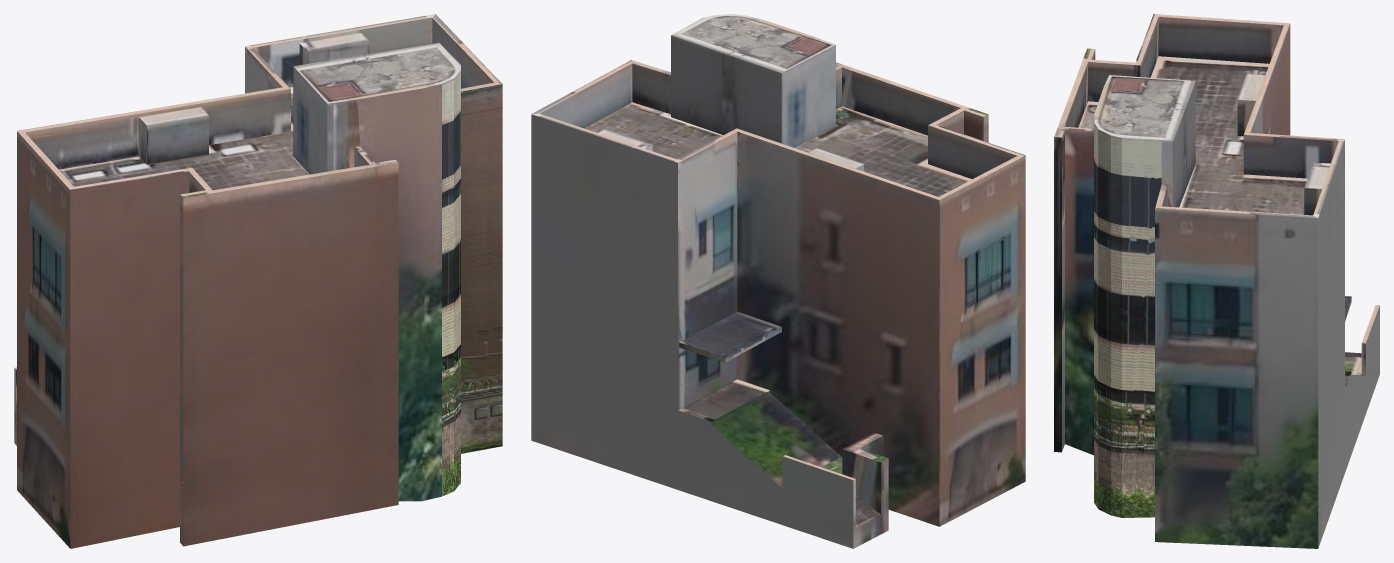
3 views of the same model, side by side, from view 1: azimuth 30°, elevation 25°; view 2: azimuth 150°, elevation 25°; view 3: azimuth 270°, elevation 25° (orthographic). The views are drawn at different scales.
Visible parts, largest first — view 1: B281154035401063A0; view 2: B281154035401063A0; view 3: B281154035401063A0.
Part boxes in pixels (<box>): B281154035401063A0: <box>14,14,502,548</box>; B281154035401063A0: <box>531,14,1025,548</box>; B281154035401063A0: <box>1054,14,1379,548</box>.
Size of the model in its own units: 13.86 by 12.02 by 9.34.
1 material, 1 textured.
